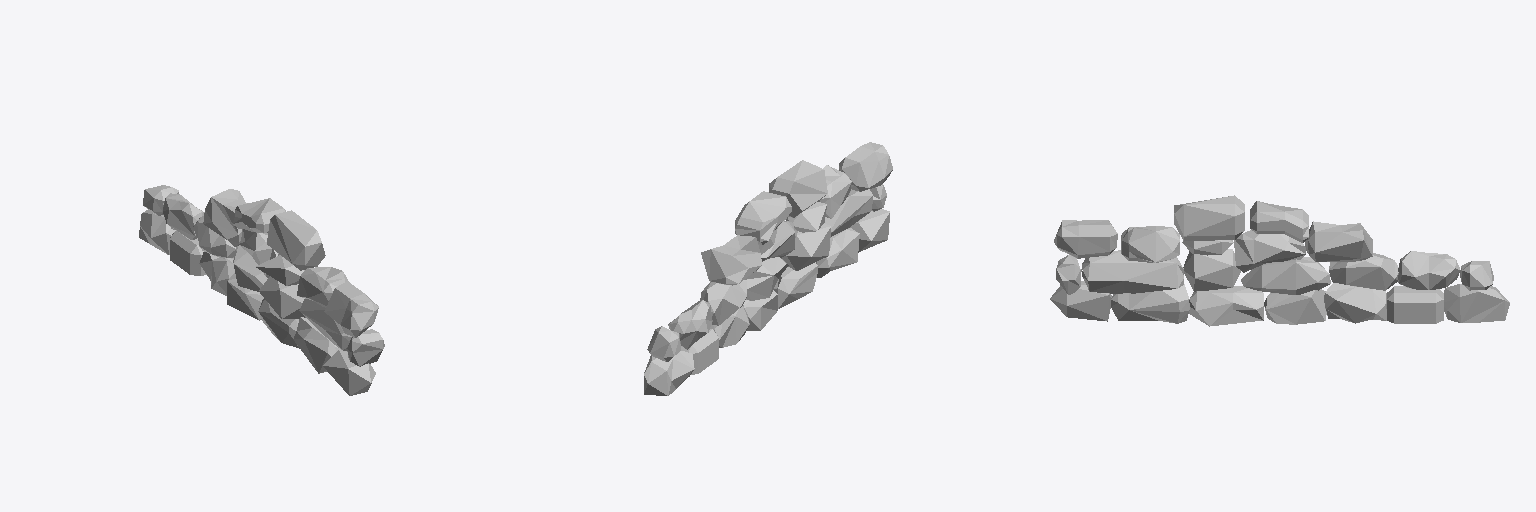
File: aStoneFence0.obj
3 views of the same model, side by side, from view 1: azimuth 30°, elevation 25°; view 2: azimuth 150°, elevation 25°; view 3: azimuth 270°, elevation 25° (orthographic).
Parts seen in each view (by area): view 1: Fense_4_stone_1_Mesh.037; view 2: Fense_4_stone_1_Mesh.037; view 3: Fense_4_stone_1_Mesh.037.
Part boxes in pixels (x1,y1,x2,y2): Fense_4_stone_1_Mesh.037: (139, 185, 384, 395); Fense_4_stone_1_Mesh.037: (644, 142, 892, 395); Fense_4_stone_1_Mesh.037: (1050, 195, 1509, 326).
Size of the model in its own units: 0.3801 by 0.8478 by 3.